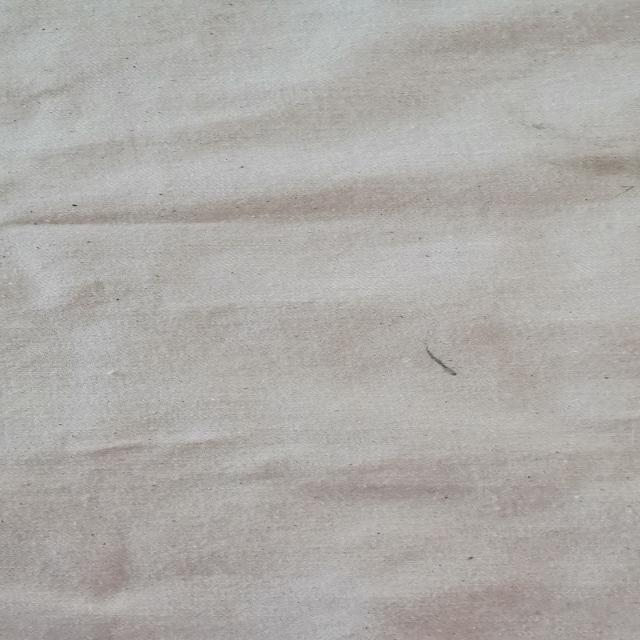taaaches: (534, 144, 640, 190), (407, 340, 485, 390)
